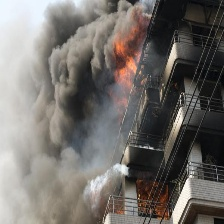fire: (115, 3, 154, 95), (143, 180, 171, 218)
smoke: (2, 1, 130, 224)
